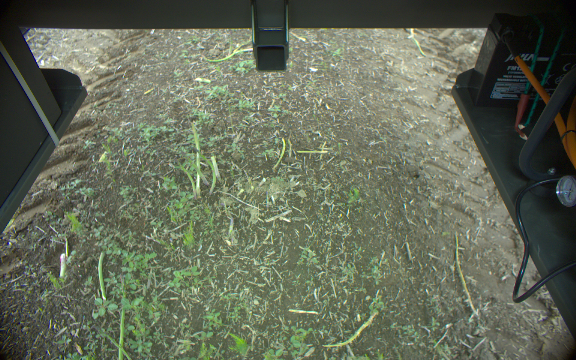aspa: (192, 148, 217, 196), (114, 287, 129, 360), (180, 151, 208, 187), (172, 162, 196, 193), (94, 251, 109, 300), (55, 254, 72, 278)
